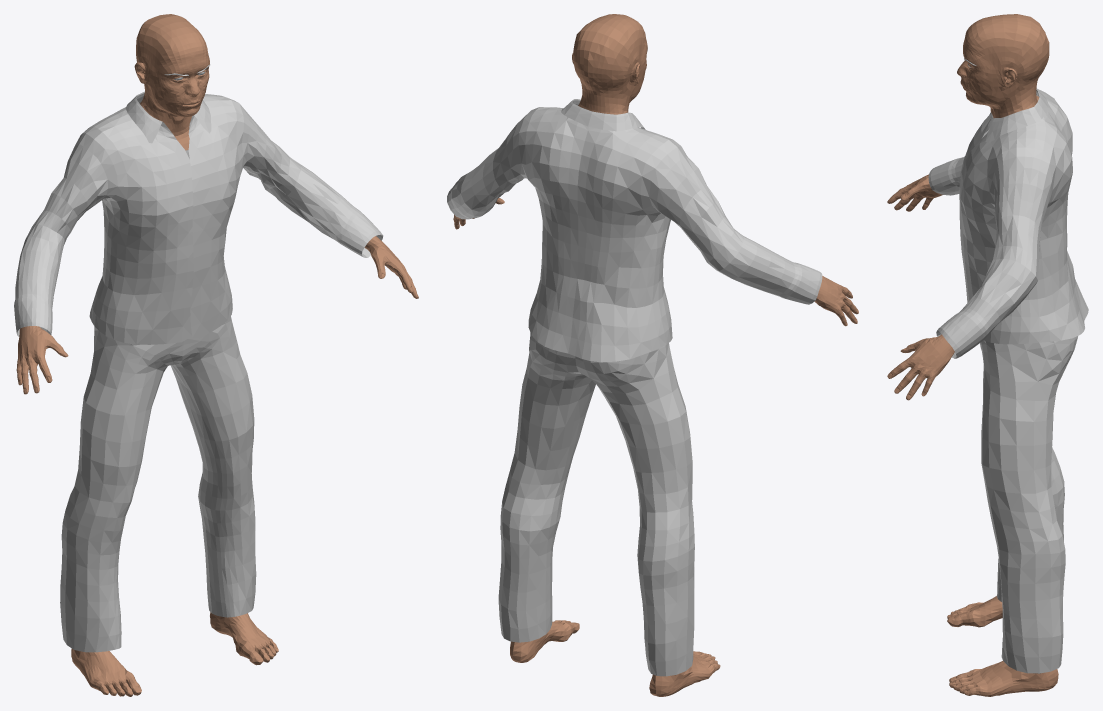
The model's file is Personagem1.obj.
3 views of the same model, side by side, from view 1: azimuth 30°, elevation 25°; view 2: azimuth 150°, elevation 25°; view 3: azimuth 270°, elevation 25° (orthographic).
Visible parts, largest first — view 1: male_casualsuit03.obj, base.obj; view 2: male_casualsuit03.obj, base.obj; view 3: male_casualsuit03.obj, base.obj.
Part boxes in pixels (x1,y1,x2,y2): male_casualsuit03.obj: (14,91,383,652); base.obj: (16,14,418,696); male_casualsuit03.obj: (447,99,822,676); base.obj: (453,14,858,696); male_casualsuit03.obj: (928,88,1088,673); base.obj: (887,14,1058,696).
Bounding box in the file's own units: 10.63 × 16.52 × 4.73.
